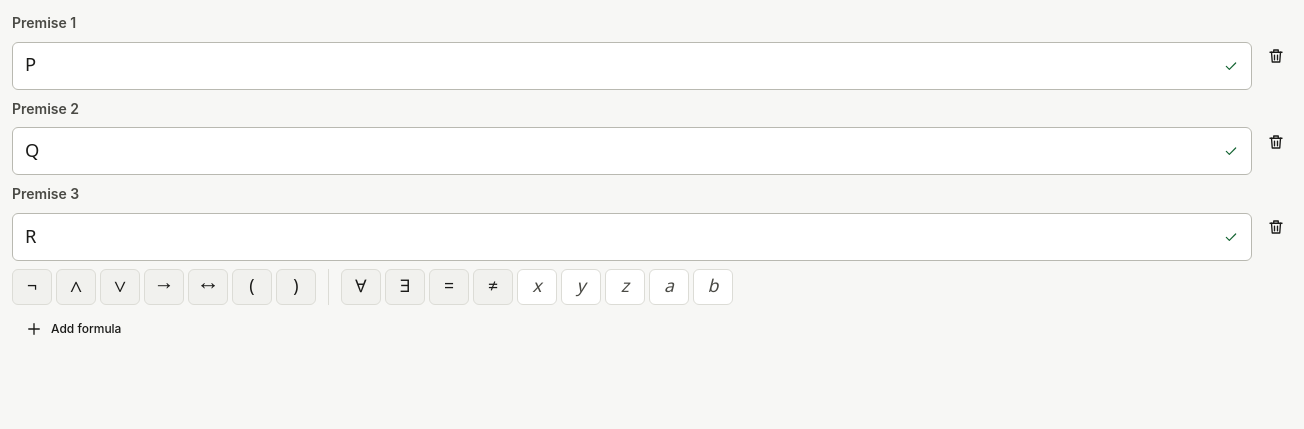
Test case: the shared symbol bar inserts into the most recently focused row, not the last one
Click the field labelled "Premise 1" at point(618, 66), box [13, 43, 1223, 89]
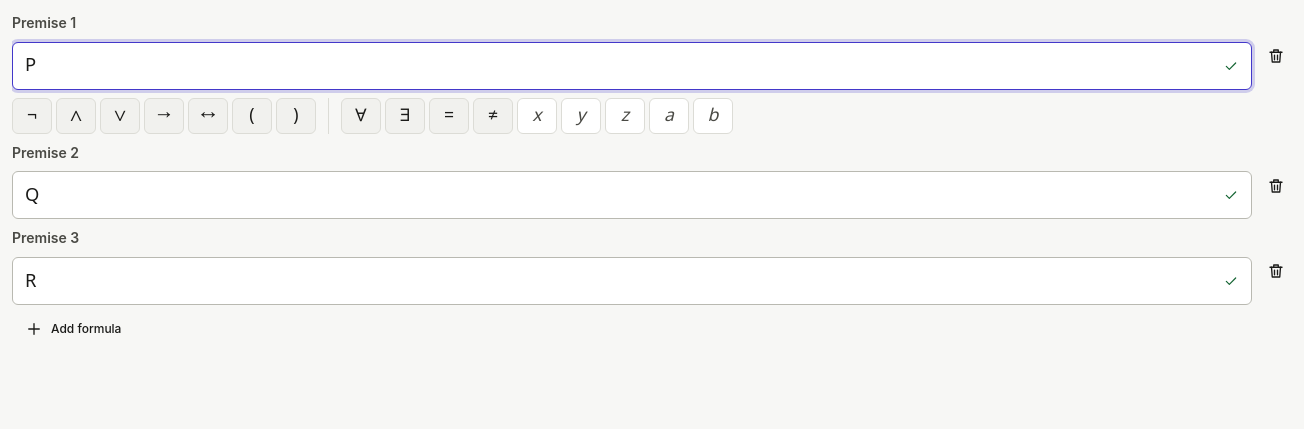
Click the button named "Insert and (conjunction)" at point(76, 116), box [56, 98, 96, 134]
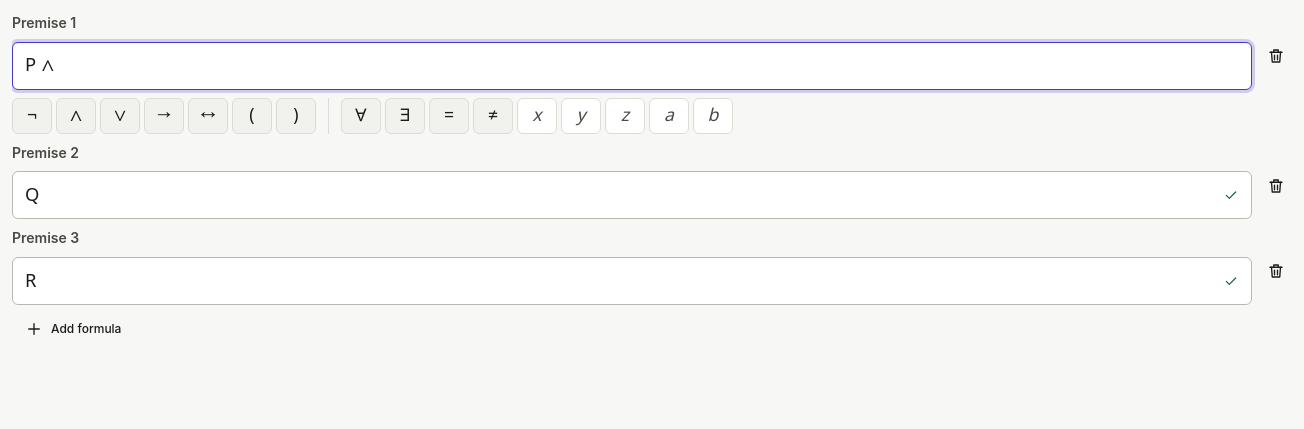
Expected: the field labelled "Premise 1" holds "P ∧ ", [13, 43, 1251, 89]
# Focus moves: the bar follows and names the new row.
Click the field labelled "Premise 3" at point(618, 281), box [13, 258, 1223, 304]
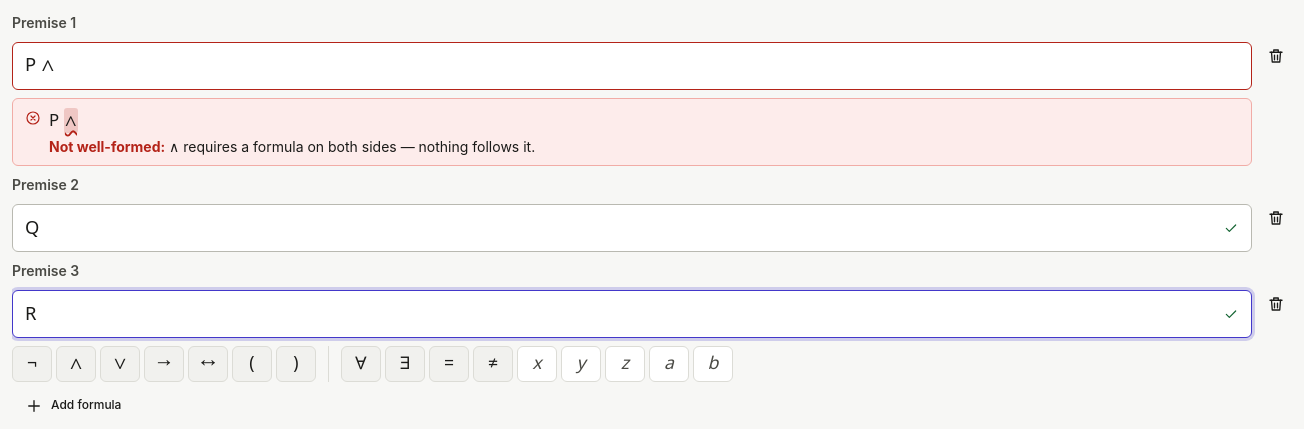
Expected: the element named "Insert symbol into Premise 3" is shown, [12, 346, 733, 382]
